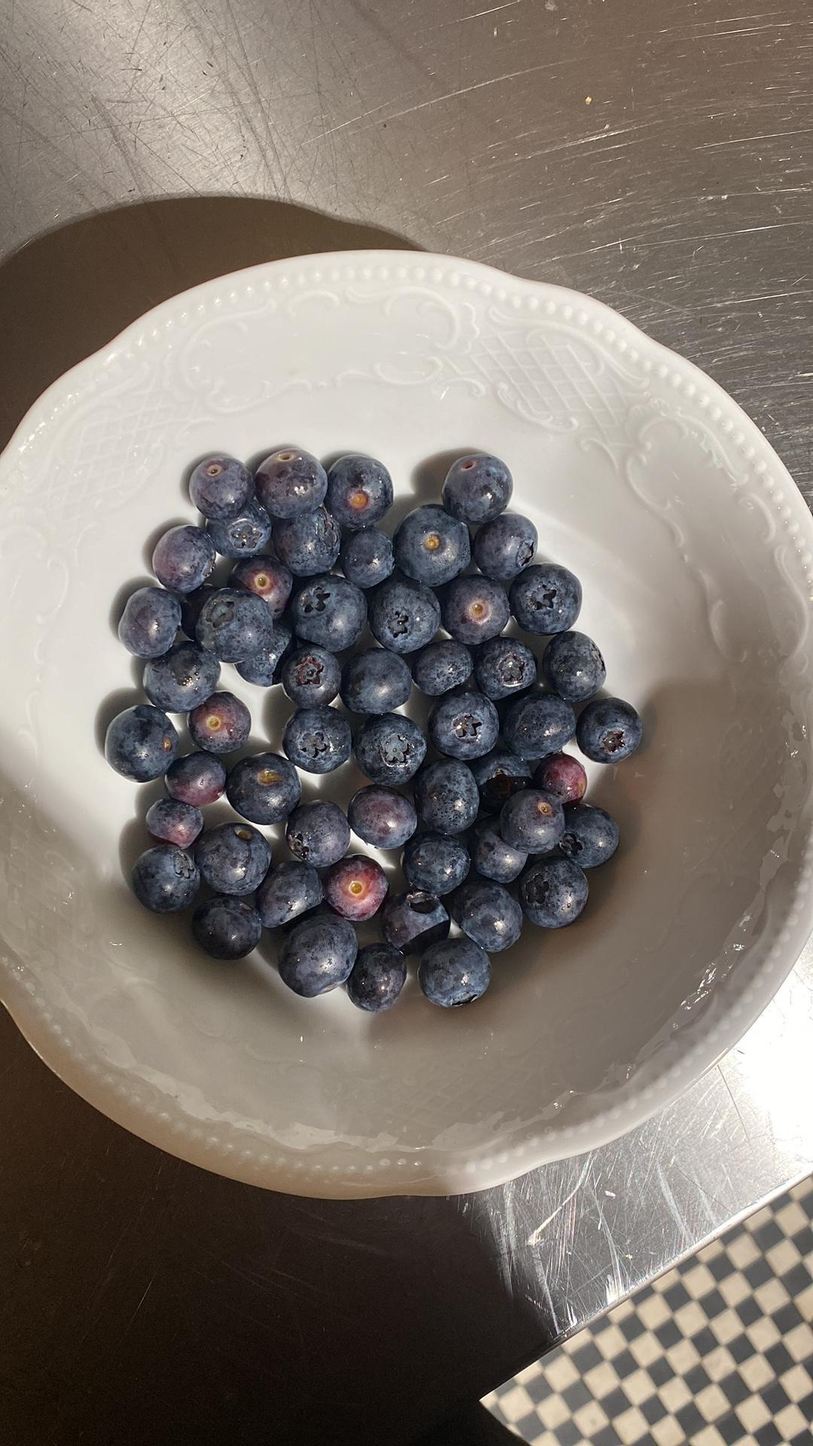blueberry: (287, 572, 375, 651), (282, 919, 361, 999), (398, 498, 469, 584), (106, 701, 181, 780), (340, 641, 414, 717), (505, 684, 579, 760), (133, 844, 206, 920), (193, 592, 275, 658), (117, 585, 190, 659), (183, 450, 258, 520), (426, 691, 503, 759), (203, 824, 274, 897), (521, 860, 592, 933), (542, 633, 612, 707), (226, 750, 297, 822), (356, 708, 427, 780), (140, 642, 218, 707), (417, 941, 496, 1005), (518, 560, 584, 635), (468, 635, 539, 702), (448, 571, 513, 643), (376, 578, 441, 649), (457, 880, 521, 951), (327, 445, 386, 522), (290, 799, 354, 869), (154, 522, 215, 595), (351, 784, 418, 850), (326, 853, 390, 922), (282, 703, 345, 772), (282, 637, 343, 707), (282, 508, 347, 573), (475, 516, 542, 579), (265, 447, 326, 516), (190, 897, 259, 957), (444, 453, 510, 515), (345, 944, 407, 1009), (387, 892, 453, 953), (405, 836, 472, 895), (261, 859, 318, 928), (187, 691, 249, 753), (419, 767, 481, 829), (228, 558, 300, 610), (586, 692, 640, 761), (412, 637, 474, 697), (341, 526, 398, 591), (200, 501, 274, 551), (560, 804, 623, 859), (238, 626, 292, 688), (471, 821, 521, 884), (510, 790, 559, 851), (145, 795, 198, 849), (541, 750, 587, 801), (172, 757, 223, 798)
